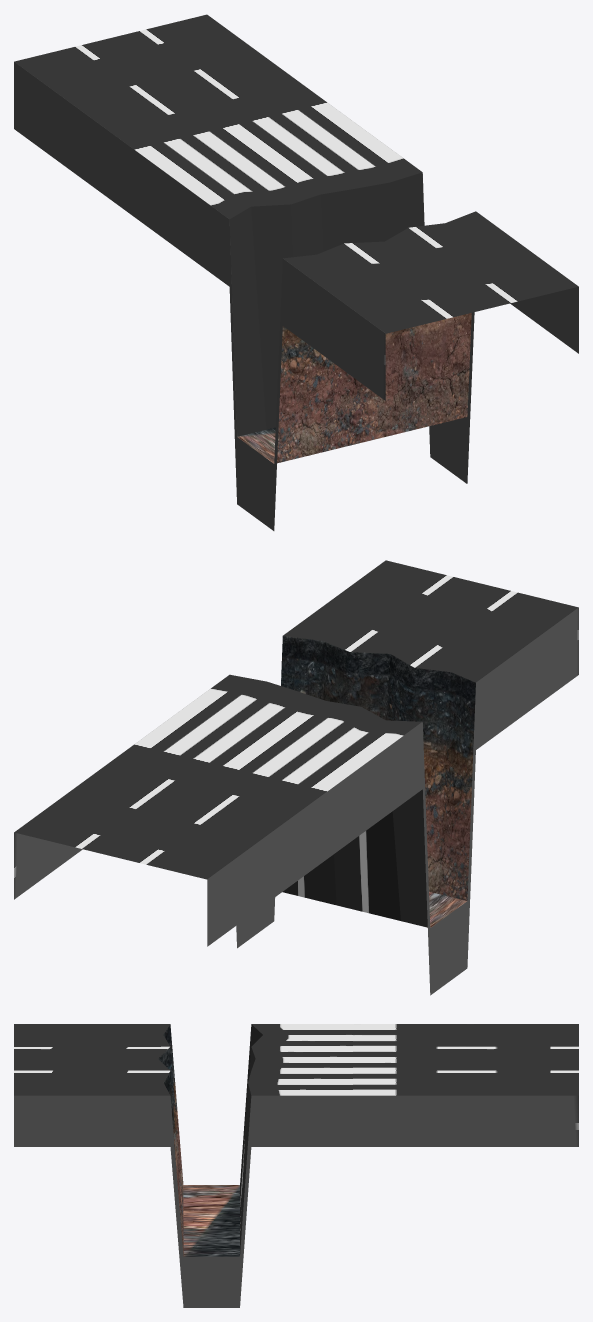
Rendered from holeway.glb.
3 renders of one model, top to bottom at view 1: azimuth 30°, elevation 25°; view 2: azimuth 150°, elevation 25°; view 3: azimuth 270°, elevation 25°, orthographic. The views are drawn at different scales.
Visible parts, largest first — view 1: Cube; view 2: Cube; view 3: Cube.
Boxes of the visible parts, x1,y1,x2,y2 form: Cube: [14, 14, 578, 530]; Cube: [14, 560, 578, 995]; Cube: [14, 1024, 578, 1307].
Bounding box in the file's own units: 6 × 8.29 × 20.
2 materials, 2 textured.
